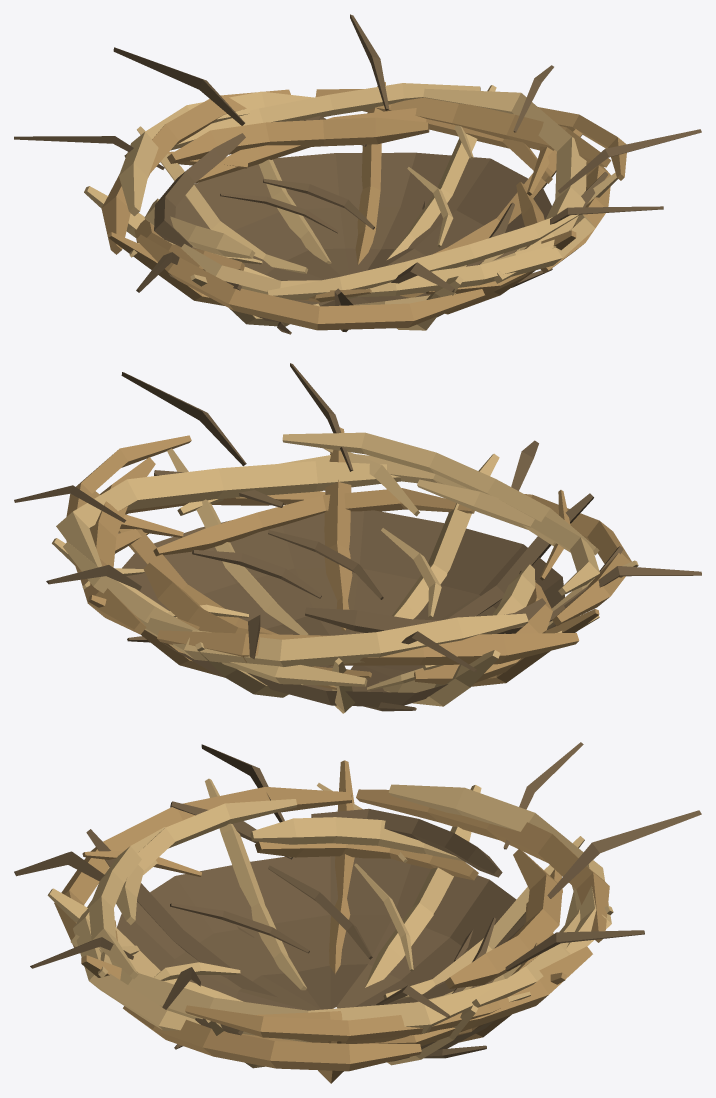
Rendered from nest-straw.glb.
3 views of the same model, one above another, from view 1: azimuth 30°, elevation 25°; view 2: azimuth 150°, elevation 25°; view 3: azimuth 270°, elevation 25° (orthographic). The views are drawn at different scales.
Visible parts, largest first — view 1: Nest_Export; view 2: Nest_Export; view 3: Nest_Export.
Boxes of the visible parts, x1,y1,x2,y2 form: Nest_Export: [14, 14, 701, 334]; Nest_Export: [14, 363, 701, 713]; Nest_Export: [14, 742, 701, 1083].
Size of the model in its own units: 1.01 by 0.2668 by 0.9583.
